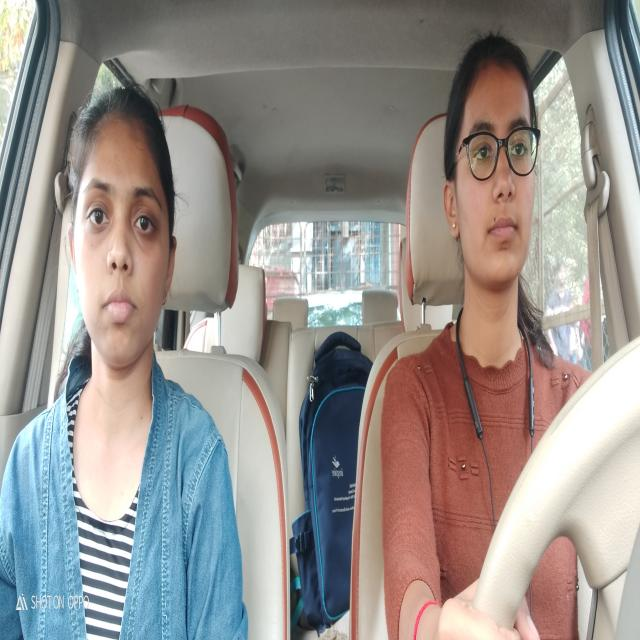person: (64, 83, 183, 377), (444, 28, 544, 295)
